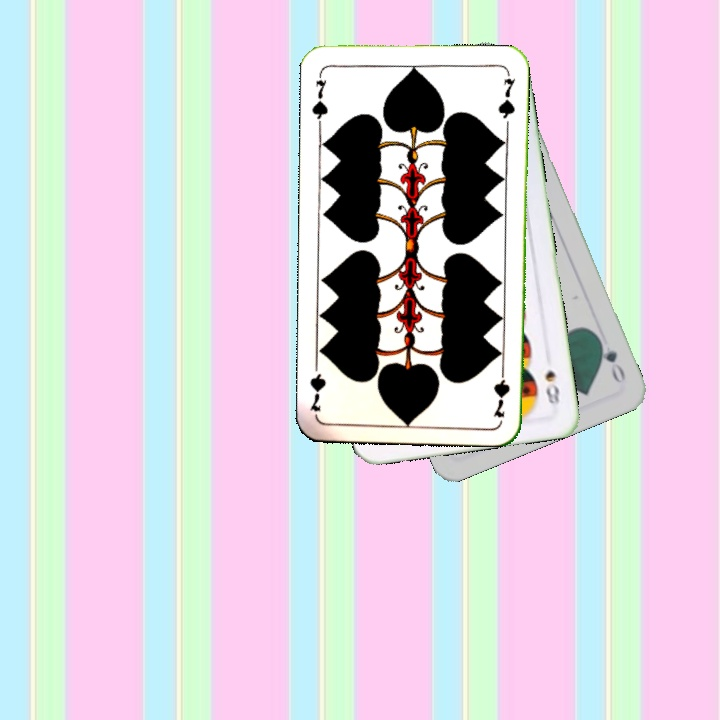G7: (489, 361, 513, 420), (308, 68, 330, 127)
GO: (593, 332, 628, 386)
S8: (541, 365, 562, 407)
